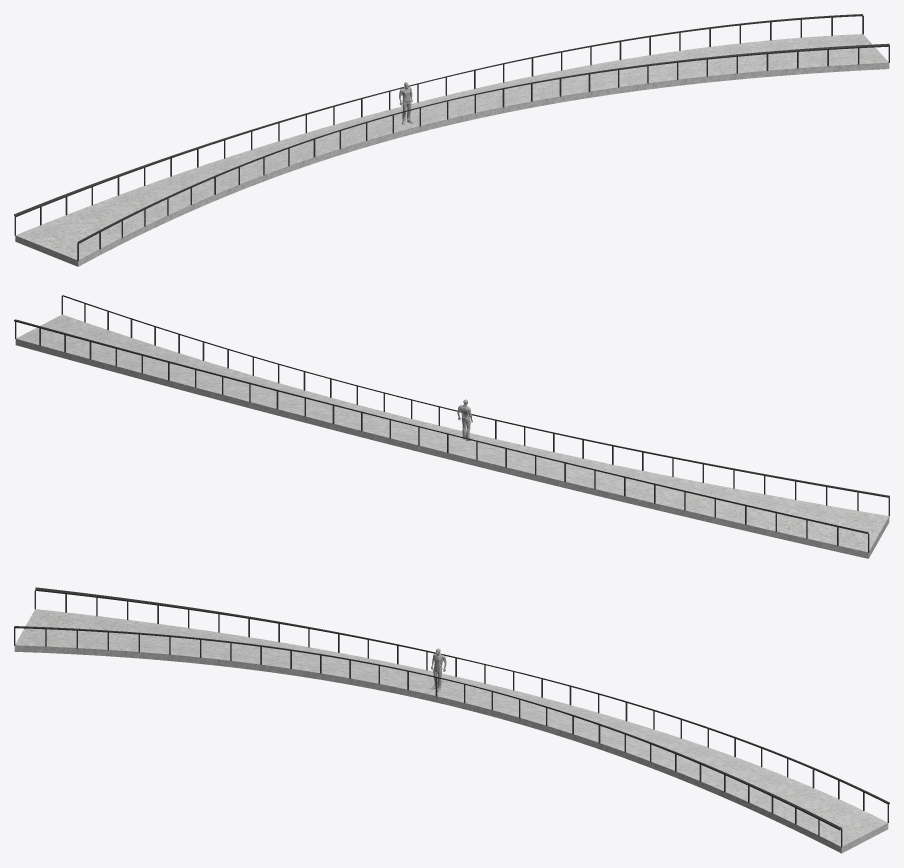
The model's file is bidge-01-base-02.glb.
3 renders of one model, top to bottom at view 1: azimuth 30°, elevation 25°; view 2: azimuth 150°, elevation 25°; view 3: azimuth 330°, elevation 25°, orthographic.
Parts seen in each view (by area): view 1: bridge-01-corridor, bridge-01-handrail-01; view 2: bridge-01-corridor, bridge-01-handrail-01; view 3: bridge-01-corridor, bridge-01-handrail-01.
Part boxes in pixels (left/top/right/bottom): bridge-01-corridor: left=15, top=34, right=889, bottom=266; bridge-01-handrail-01: left=14, top=14, right=889, bottom=260; bridge-01-corridor: left=15, top=314, right=889, bottom=558; bridge-01-handrail-01: left=14, top=295, right=889, bottom=552; bridge-01-corridor: left=14, top=609, right=888, bottom=853; bridge-01-handrail-01: left=14, top=587, right=889, bottom=847.
Bounding box in the file's own units: 39.52 × 2.76 × 5.06.
3 materials, 1 textured.
